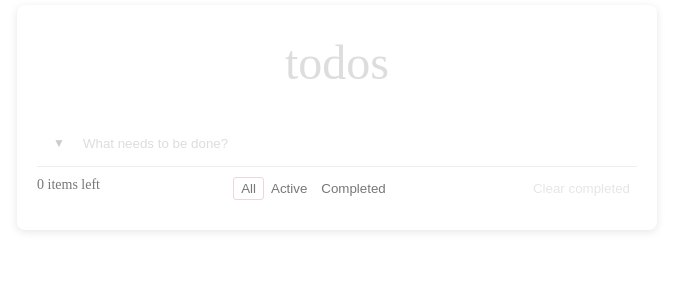
Scenario: Todos компонент › добавление новой задачи
Type "Новая задача" into the field with placeholder "What needs to be done?" at point(359, 143), box [81, 134, 637, 152]
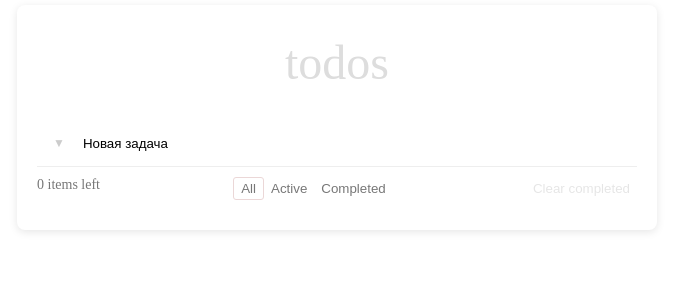
Press Enter in the field with placeholder "What needs to be done?", box [81, 134, 637, 152]
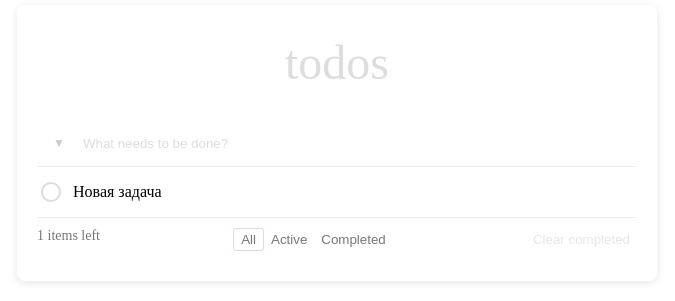
Result: the text "Новая задача" is shown at [73, 183, 162, 201]
Result: the text "1 items left" is shown at [37, 228, 100, 251]
